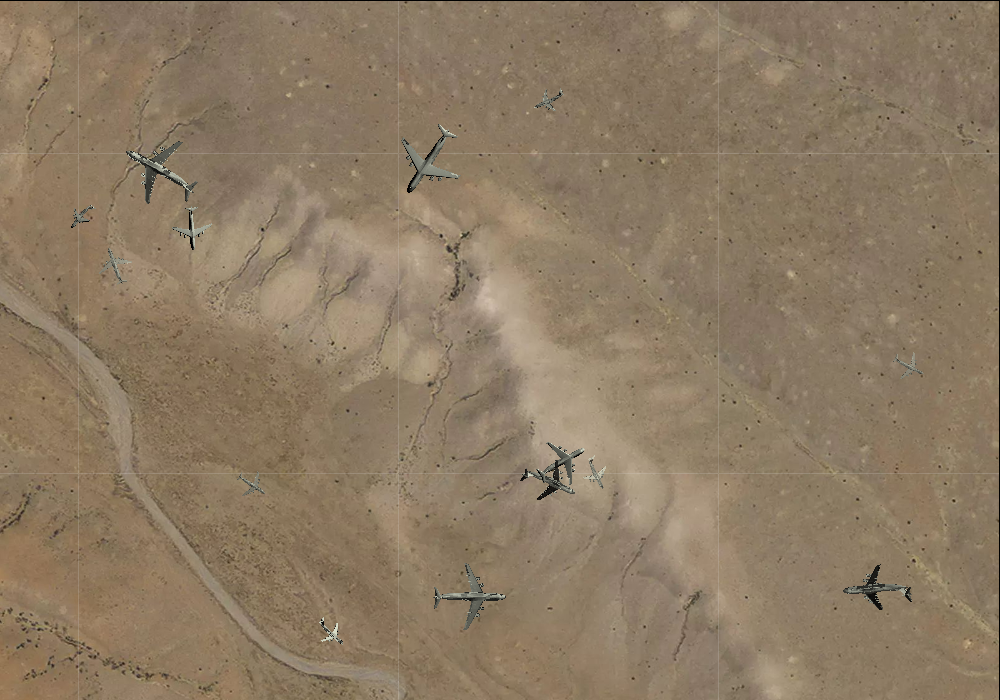plane: (107, 119, 212, 223), (377, 108, 479, 211), (511, 447, 585, 519), (431, 562, 506, 632), (525, 427, 597, 498), (840, 559, 915, 624), (91, 241, 138, 290), (169, 204, 214, 251), (886, 343, 931, 388), (574, 450, 618, 495), (309, 610, 354, 654), (229, 463, 272, 505), (527, 79, 569, 119), (62, 196, 101, 236)
